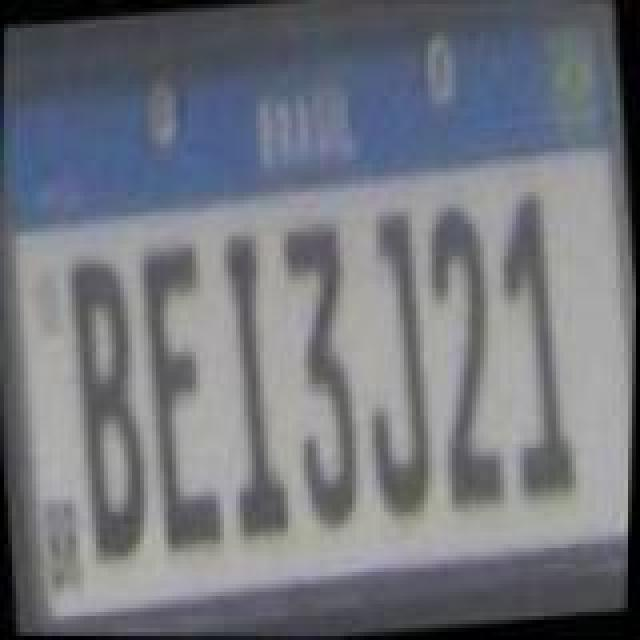1: (488, 188, 592, 500)
2: (416, 202, 520, 518)
3: (274, 218, 374, 530)
B: (64, 260, 164, 564)
E: (134, 240, 238, 552)
I: (208, 232, 300, 544)
J: (346, 202, 446, 526)
